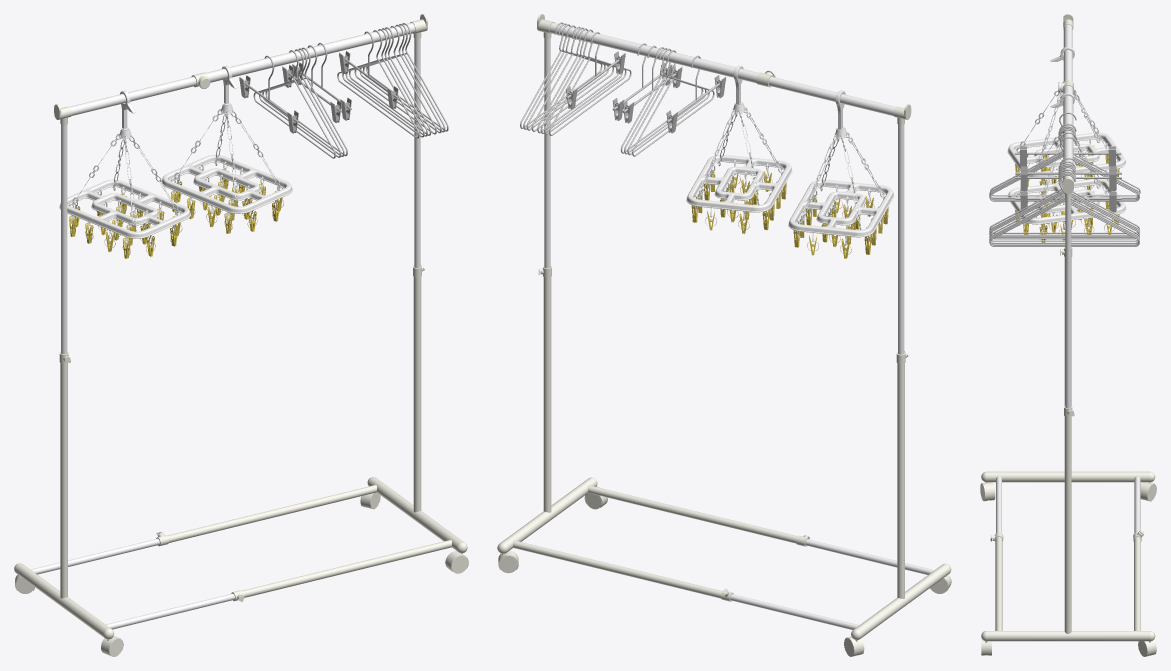
The model's file is 056_ハンガーが掛かったハンガーラック.glb.
The picture shows the model from 3 angles, left to right: view 1: azimuth 30°, elevation 25°; view 2: azimuth 150°, elevation 25°; view 3: azimuth 270°, elevation 25°; orthographic projection. The views are drawn at different scales.
Parts seen in each view (by area): view 1: body, 055_ピンチハンガー1, 055_ピンチハンガー2; view 2: body, 055_ピンチハンガー2, 055_ピンチハンガー1; view 3: body, 055_ピンチハンガー2, 055_ピンチハンガー1, 051_ハンガー05, 051_ハンガー07, 051_ハンガー01, 051_ハンガー04, 051_ハンガー02, 051_ハンガー03, 051_ハンガー06, 051_ハンガー08, 052_ボトムハンガー4 (+7 smaller).
Part boxes in pixels (x1,y1,x2,y2): body: [14, 14, 468, 656]; 055_ピンチハンガー1: [161, 65, 292, 233]; 055_ピンチハンガー2: [59, 90, 190, 258]; body: [497, 14, 951, 656]; 055_ピンチハンガー2: [788, 90, 894, 258]; 055_ピンチハンガー1: [686, 65, 792, 233]; body: [980, 14, 1156, 656]; 055_ピンチハンガー2: [1007, 46, 1126, 194]; 055_ピンチハンガー1: [1007, 92, 1126, 242]; 051_ハンガー05: [989, 166, 1139, 239]; 051_ハンガー07: [989, 163, 1139, 236]; 051_ハンガー01: [989, 174, 1139, 246]; 051_ハンガー04: [989, 169, 1139, 241]; 051_ハンガー02: [989, 173, 1139, 245]; 051_ハンガー03: [989, 171, 1139, 243]; 051_ハンガー06: [989, 165, 1139, 237]; 051_ハンガー08: [989, 161, 1139, 233]; 052_ボトムハンガー4: [1014, 112, 1121, 166].
Size of the model in its own units: 1.11 by 1.5 by 0.497.
